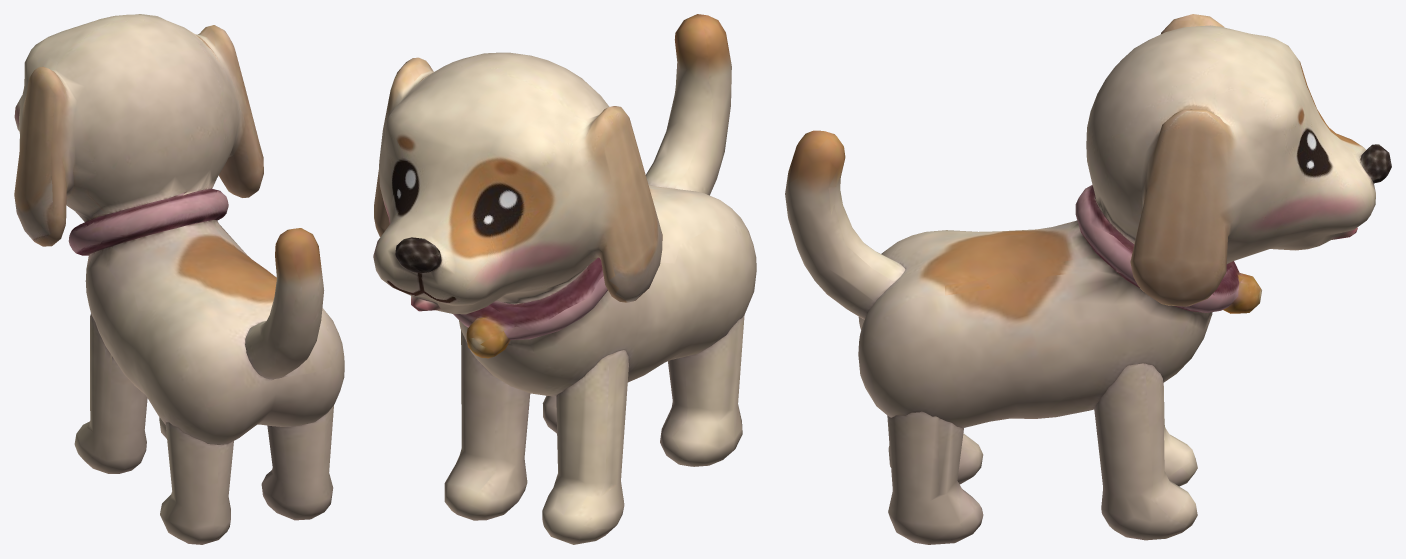
Rendered from pet_dog.glb.
3 renders of one model, left to right at view 1: azimuth 30°, elevation 25°; view 2: azimuth 150°, elevation 25°; view 3: azimuth 270°, elevation 25°, orthographic. The views are drawn at different scales.
Visible parts, largest first — view 1: Body, Tail, LegBL, LegFL, LegBR; view 2: Body, LegFL, Tail, LegFR, LegBL; view 3: Body, LegFR, Tail, LegBR, LegFL, LegBL.
Part boxes in pixels (bbox=[...]): Body: bbox=[14, 14, 344, 444]; Tail: bbox=[245, 228, 324, 379]; LegBL: bbox=[160, 422, 233, 544]; LegFL: bbox=[74, 314, 147, 473]; LegBR: bbox=[261, 405, 333, 520]; Body: bbox=[373, 52, 756, 396]; LegFL: bbox=[542, 350, 628, 544]; Tail: bbox=[646, 14, 731, 195]; LegFR: bbox=[444, 330, 530, 520]; LegBL: bbox=[660, 314, 744, 466]; Body: bbox=[858, 14, 1391, 428]; LegFR: bbox=[1094, 363, 1197, 540]; Tail: bbox=[785, 130, 905, 319]; LegBR: bbox=[887, 411, 983, 544]; LegFL: bbox=[1163, 383, 1197, 486]; LegBL: bbox=[888, 433, 983, 484].
Size of the model in its own units: 0.3258 by 0.5691 by 0.6597.
1 material, 1 textured.
